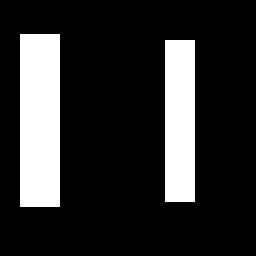person: (20, 34, 59, 206), (165, 40, 194, 201)
